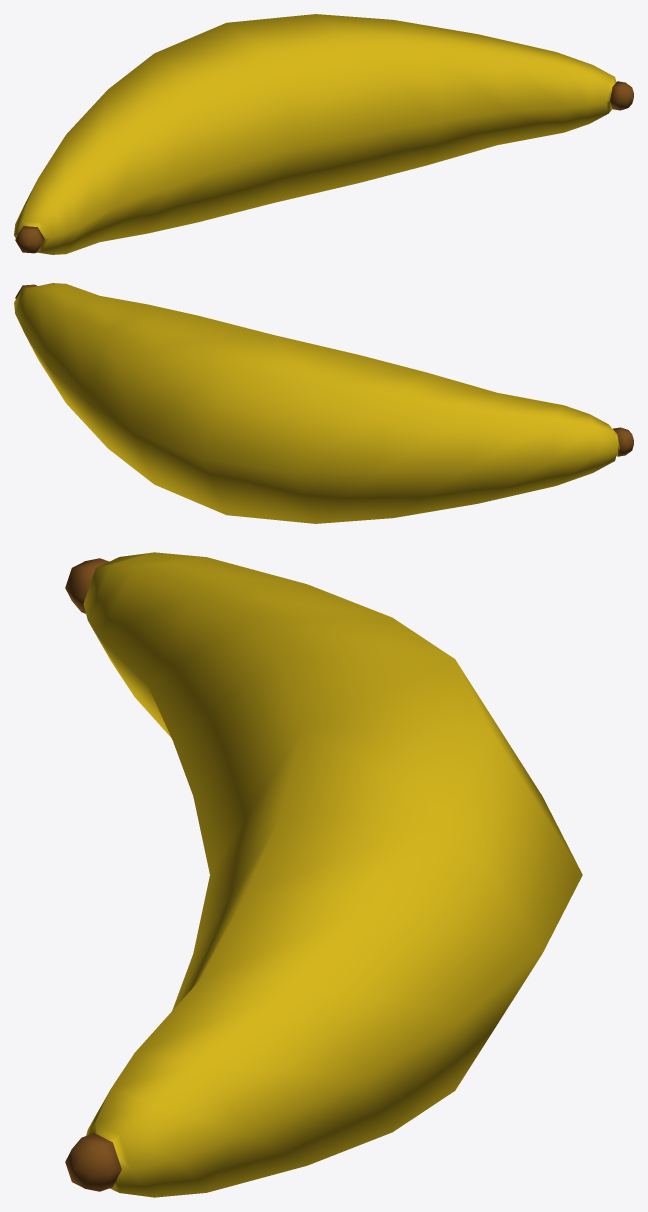
Rendered from Banana.fbx.
3 renders of one model, top to bottom at view 1: azimuth 30°, elevation 25°; view 2: azimuth 150°, elevation 25°; view 3: azimuth 270°, elevation 25°, orthographic. The views are drawn at different scales.
Parts seen in each view (by area): view 1: Cylinder.001; view 2: Cylinder.001; view 3: Cylinder.001.
Boxes of the visible parts, x1,y1,x2,y2 form: Cylinder.001: (14,14,633,254); Cylinder.001: (14,283,633,523); Cylinder.001: (65,552,582,1197).
Bounding box in the file's own units: 764 × 173 × 278.
